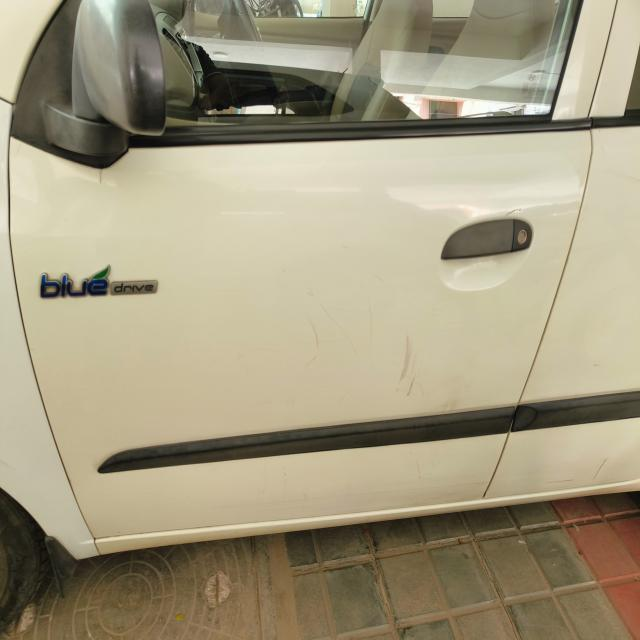scratch: (397, 320, 434, 406), (294, 304, 332, 376), (349, 294, 386, 366)
